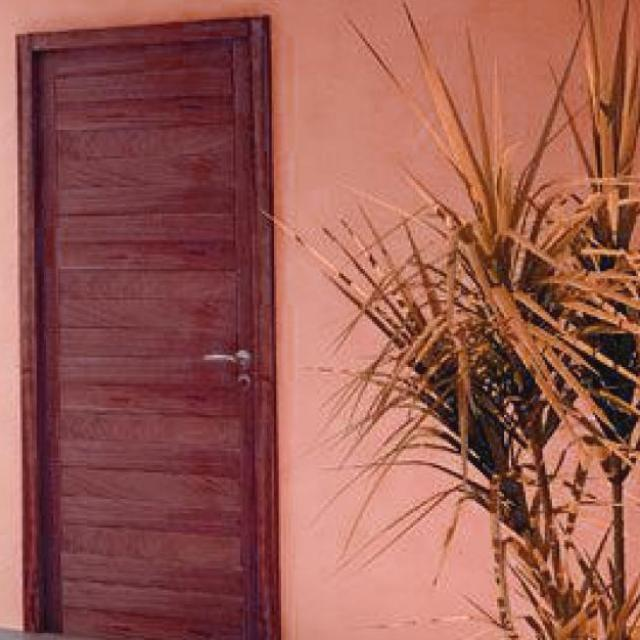door: (17, 14, 281, 639)
